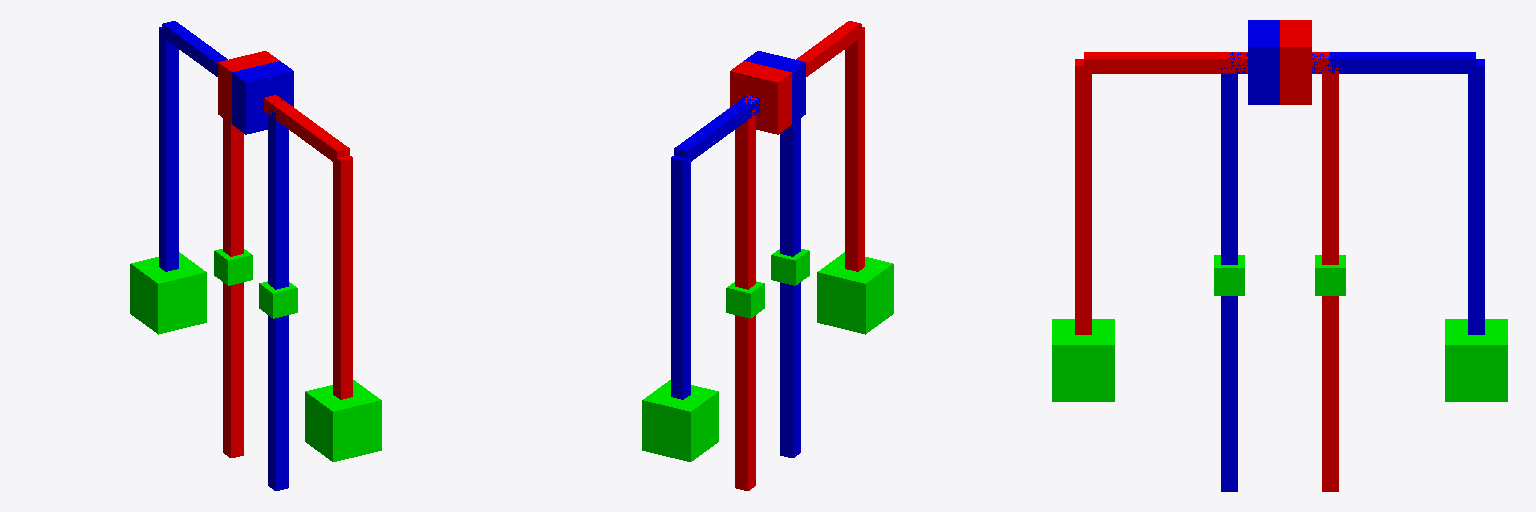
URDF robot description (stick_bot):
<?xml version='1.0' encoding='utf-8'?>
<robot name="stick_bot">
  <link name="left_leg">
    <visual name="left_leg_motor">
      <origin xyz="0 0.00495 0" rpy="0 0 0" />
      <geometry>
        <box size="0.0196 0.0099 0.0203" />
      </geometry>
      <material>
        <color rgba="1 0 0 0.5" />
      </material>
    </visual>
    <visual name="left_leg_axel">
      <origin xyz="0 0.007925 0" rpy="0 0 0" />
      <geometry>
        <box size="0.0052 0.01585 0.0052" />
      </geometry>
      <material>
        <color rgba="1 0 0 0.5" />
      </material>
    </visual>
    <visual name="left_leg_arm_axel">
      <origin xyz="0 -0.03085 0" rpy="0 0 0" />
      <geometry>
        <box size="0.0052 0.0617 0.0052" />
      </geometry>
      <material>
        <color rgba="1 0 0 0.5" />
      </material>
    </visual>
    <visual name="left_leg_arm">
      <origin xyz="0 -0.0617 -0.0515" rpy="0 0 0" />
      <geometry>
        <box size="0.0052 0.0052 0.103" />
      </geometry>
      <material>
        <color rgba="1 0 0 0.5" />
      </material>
    </visual>
    <visual name="left_leg_hand_mass">
      <origin xyz="0 -0.0617 -0.103" rpy="0 0 0" />
      <geometry>
        <box size="0.0197 0.0197 0.0197" />
      </geometry>
      <material>
        <color rgba="0 1 0 0.5" />
      </material>
    </visual>
    <visual name="left_leg_link">
      <origin xyz="0 0.01585 -0.07365" rpy="0 0 0" />
      <geometry>
        <box size="0.0052 0.0052 0.1473" />
      </geometry>
      <material>
        <color rgba="1 0 0 0.5" />
      </material>
    </visual>
    <visual name="left_leg_mass">
      <origin xyz="0 0.01585 -0.07365" rpy="0 0 0" />
      <geometry>
        <box size="0.00985 0.00985 0.00985" />
      </geometry>
      <material>
        <color rgba="0 1 0 0.5" />
      </material>
    </visual>
    <visual name="left_leg_foot_visual">
      <origin xyz="0.0136 0.01585 -0.1473" rpy="0 0 0" />
      <geometry>
        <mesh filename="/home/sman/Work/CMU/Research/LEGO-mujoco/stickbot/X_0.2394_Y_0.2378_Z_0.2436_box_x_0.102_box_y_0.0513/left_foot_geom.obj" />
      </geometry>
      <material>
        <color rgba="1 0 0 0.5" />
      </material>
    </visual>
    <collision name="left_leg_foot_collision">
      <origin xyz="0.0136 0.01585 -0.1473" rpy="0 0 0" />
      <geometry>
        <mesh filename="/home/sman/Work/CMU/Research/LEGO-mujoco/stickbot/X_0.2394_Y_0.2378_Z_0.2436_box_x_0.102_box_y_0.0513/left_foot_geom.obj" />
      </geometry>
      <material>
        <color rgba="1 0 0 0.5" />
      </material>
    </collision>
  </link>
  <link name="right_leg">
    <visual name="right_leg_motor">
      <origin xyz="0 -0.00495 0" rpy="0 0 0" />
      <geometry>
        <box size="0.0196 0.0099 0.0203" />
      </geometry>
      <material>
        <color rgba="0 0 1 0.5" />
      </material>
    </visual>
    <visual name="right_leg_axel">
      <origin xyz="0 -0.007925 0" rpy="0 0 0" />
      <geometry>
        <box size="0.0052 0.01585 0.0052" />
      </geometry>
      <material>
        <color rgba="0 0 1 0.5" />
      </material>
    </visual>
    <visual name="right_leg_arm_axel">
      <origin xyz="0 0.03085 0" rpy="0 0 0" />
      <geometry>
        <box size="0.0052 0.0617 0.0052" />
      </geometry>
      <material>
        <color rgba="0 0 1 0.5" />
      </material>
    </visual>
    <visual name="right_leg_arm">
      <origin xyz="0 0.0617 -0.0515" rpy="0 0 0" />
      <geometry>
        <box size="0.0052 0.0052 0.103" />
      </geometry>
      <material>
        <color rgba="0 0 1 0.5" />
      </material>
    </visual>
    <visual name="right_leg_hand_mass">
      <origin xyz="0 0.0617 -0.103" rpy="0 0 0" />
      <geometry>
        <box size="0.0197 0.0197 0.0197" />
      </geometry>
      <material>
        <color rgba="0 1 0 0.5" />
      </material>
    </visual>
    <visual name="right_leg_link">
      <origin xyz="0 -0.01585 -0.07365" rpy="0 0 0" />
      <geometry>
        <box size="0.0052 0.0052 0.1473" />
      </geometry>
      <material>
        <color rgba="0 0 1 0.5" />
      </material>
    </visual>
    <visual name="right_leg_mass">
      <origin xyz="0 -0.01585 -0.07365" rpy="0 0 0" />
      <geometry>
        <box size="0.00985 0.00985 0.00985" />
      </geometry>
      <material>
        <color rgba="0 1 0 0.5" />
      </material>
    </visual>
    <visual name="right_leg_foot_visual">
      <origin xyz="0.0136 -0.01585 -0.1473" rpy="0 0 0" />
      <geometry>
        <mesh filename="/home/sman/Work/CMU/Research/LEGO-mujoco/stickbot/X_0.2394_Y_0.2378_Z_0.2436_box_x_0.102_box_y_0.0513/right_foot_geom.obj" />
      </geometry>
      <material>
        <color rgba="0 0 1 0.5" />
      </material>
    </visual>
    <collision name="right_leg_foot_collision">
      <origin xyz="0.0136 -0.01585 -0.1473" rpy="0 0 0" />
      <geometry>
        <mesh filename="/home/sman/Work/CMU/Research/LEGO-mujoco/stickbot/X_0.2394_Y_0.2378_Z_0.2436_box_x_0.102_box_y_0.0513/right_foot_geom.obj" />
      </geometry>
      <material>
        <color rgba="0 0 1 0.5" />
      </material>
    </collision>
  </link>
  <link name="left_leg_hand_mass_mass_link">
    <inertial name="left_leg_hand_mass_inertial">
      <origin xyz="0 -0.0617 -0.103" rpy="0 0 0" />
      <mass value="0.1041" />
      <inertia ixx="0" ixy="0" ixz="0" iyy="0" iyz="0" izz="0" />
    </inertial>
  </link>
  <link name="left_leg_mass_mass_link">
    <inertial name="left_leg_mass_inertial">
      <origin xyz="0 0.01585 -0.07365" rpy="0 0 0" />
      <mass value="0.101" />
      <inertia ixx="0" ixy="0" ixz="0" iyy="0" iyz="0" izz="0" />
    </inertial>
  </link>
  <link name="left_feet_mass_link">
    <inertial name="left_feet_inertial">
      <origin xyz="0.0136 0.01585 -0.1473" rpy="0 0 0" />
      <mass value="0.1025" />
      <inertia ixx="0" ixy="0" ixz="0" iyy="0" iyz="0" izz="0" />
    </inertial>
  </link>
  <link name="right_leg_hand_mass_mass_link">
    <inertial name="right_leg_hand_mass_inertial">
      <origin xyz="0 0.0617 -0.103" rpy="0 0 0" />
      <mass value="0.1041" />
      <inertia ixx="0" ixy="0" ixz="0" iyy="0" iyz="0" izz="0" />
    </inertial>
  </link>
  <link name="right_leg_mass_mass_link">
    <inertial name="right_leg_mass_inertial">
      <origin xyz="0 -0.01585 -0.07365" rpy="0 0 0" />
      <mass value="0.101" />
      <inertia ixx="0" ixy="0" ixz="0" iyy="0" iyz="0" izz="0" />
    </inertial>
  </link>
  <link name="right_feet_mass_link">
    <inertial name="right_feet_inertial">
      <origin xyz="0.0136 -0.01585 -0.1473" rpy="0 0 0" />
      <mass value="0.1025" />
      <inertia ixx="0" ixy="0" ixz="0" iyy="0" iyz="0" izz="0" />
    </inertial>
  </link>
  <joint name="hip" type="revolute">
    <origin xyz="0 0 0" rpy="0 0 0" />
    <parent link="left_leg" />
    <child link="right_leg" />
    <axis xyz="0 1 0" />
    <limit lower="-0.785" upper="0.785" />
  </joint>
  <joint name="fixed_left_leg_hand_mass_mass_link" type="fixed">
    <origin xyz="0 0 0" rpy="0 0 0" />
    <parent link="left_leg" />
    <child link="left_leg_hand_mass_mass_link" />
  </joint>
  <joint name="fixed_left_leg_mass_mass_link" type="fixed">
    <origin xyz="0 0 0" rpy="0 0 0" />
    <parent link="left_leg" />
    <child link="left_leg_mass_mass_link" />
  </joint>
  <joint name="fixed_left_feet_mass_link" type="fixed">
    <origin xyz="0 0 0" rpy="0 0 0" />
    <parent link="left_leg" />
    <child link="left_feet_mass_link" />
  </joint>
  <joint name="fixed_right_leg_hand_mass_mass_link" type="fixed">
    <origin xyz="0 0 0" rpy="0 0 0" />
    <parent link="right_leg" />
    <child link="right_leg_hand_mass_mass_link" />
  </joint>
  <joint name="fixed_right_leg_mass_mass_link" type="fixed">
    <origin xyz="0 0 0" rpy="0 0 0" />
    <parent link="right_leg" />
    <child link="right_leg_mass_mass_link" />
  </joint>
  <joint name="fixed_right_feet_mass_link" type="fixed">
    <origin xyz="0 0 0" rpy="0 0 0" />
    <parent link="right_leg" />
    <child link="right_feet_mass_link" />
  </joint>
  <mujoco>
    <compiler strippath="false" />
  </mujoco>
</robot>

--- Facts derived from the render (not from the file) ---
Views: 3 orthographic renders of the robot side by side, from view 1: azimuth 30°, elevation 25°; view 2: azimuth 150°, elevation 25°; view 3: azimuth 270°, elevation 25°.
Robot: stick_bot — 8 links, 7 joints (1 revolute, 6 fixed); root link left_leg; default pose: all joints at 0.
Links seen in each view (by area): view 1: right_leg, left_leg; view 2: left_leg, right_leg; view 3: left_leg, right_leg.
Link boxes in pixels (left/top/right/bottom): right_leg: left=130, top=21, right=297, bottom=490; left_leg: left=214, top=51, right=381, bottom=461; left_leg: left=726, top=21, right=893, bottom=490; right_leg: left=642, top=51, right=809, bottom=461; left_leg: left=1052, top=20, right=1345, bottom=491; right_leg: left=1214, top=20, right=1507, bottom=491.
Bounding box of the posed robot: 0.0197 × 0.1431 × 0.1575 m (x, y, z).
Geometry: only primitive shapes (box / cylinder / sphere) drawn; not drawn: 2 mesh visuals (reference in a form the renderer does not follow).
